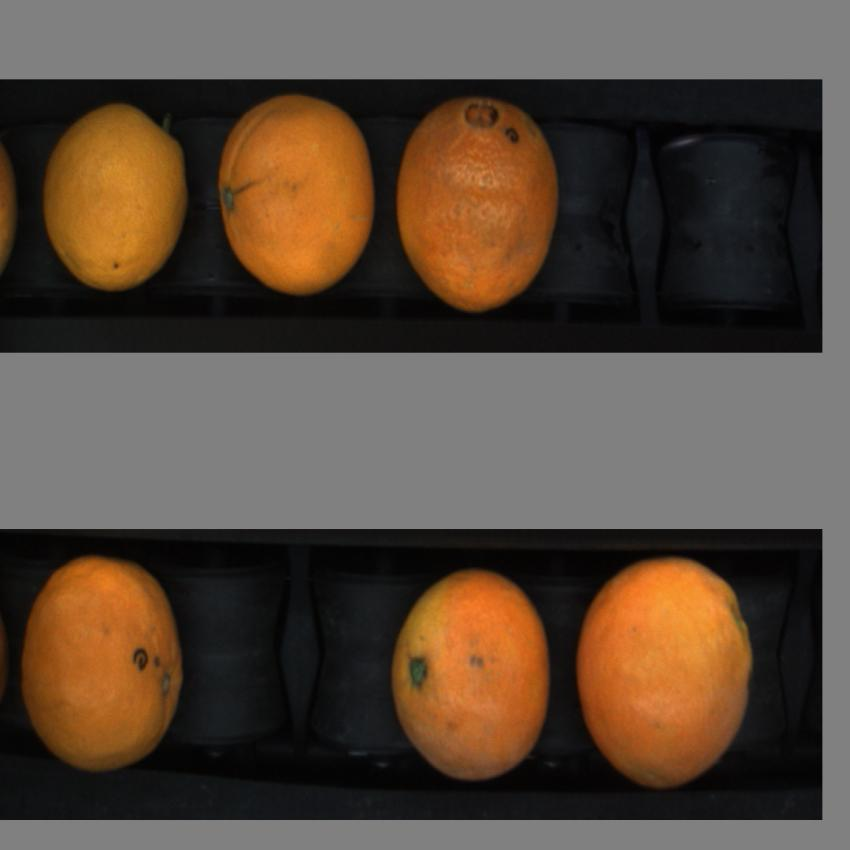Buen estado: (574, 552, 759, 795), (17, 544, 188, 785), (384, 559, 554, 794), (210, 88, 377, 305), (36, 94, 196, 296)
Mal estado: (391, 90, 567, 316)
